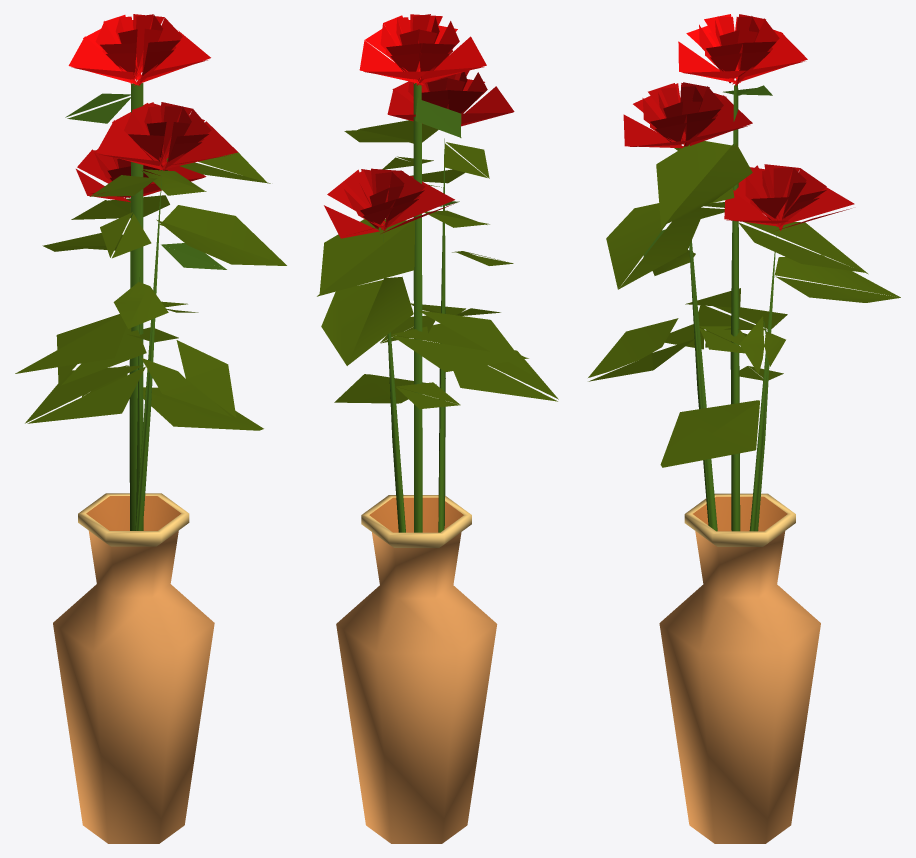
File: HWN20_FlowerPot_01.glb
The picture shows the model from 3 angles, left to right: view 1: azimuth 30°, elevation 25°; view 2: azimuth 150°, elevation 25°; view 3: azimuth 270°, elevation 25°; orthographic projection.
Parts seen in each view (by area): view 1: HWN20_FlowerPot_01; view 2: HWN20_FlowerPot_01; view 3: HWN20_FlowerPot_01.
Part boxes in pixels (<box>): HWN20_FlowerPot_01: <box>15,14,286,843</box>; HWN20_FlowerPot_01: <box>317,14,558,843</box>; HWN20_FlowerPot_01: <box>588,14,900,843</box>.
Size of what is drawn, in the model's own units: 0.1614 by 0.5526 by 0.1953.
1 material, 1 textured.
